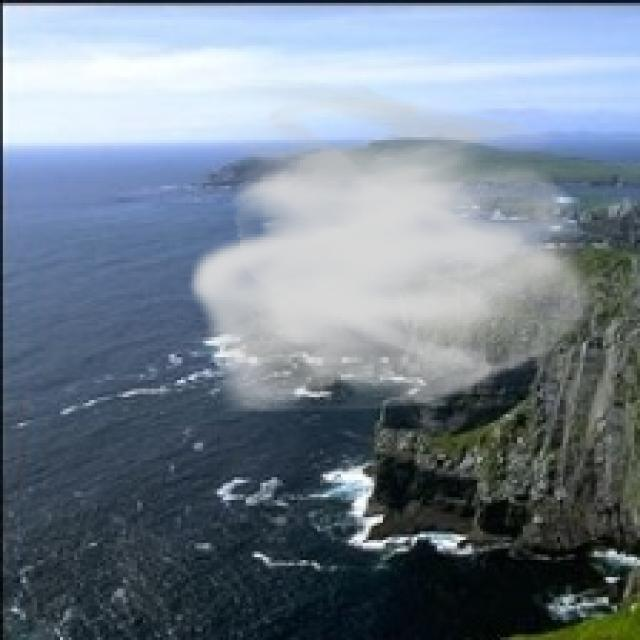smoke: (186, 77, 611, 423)
